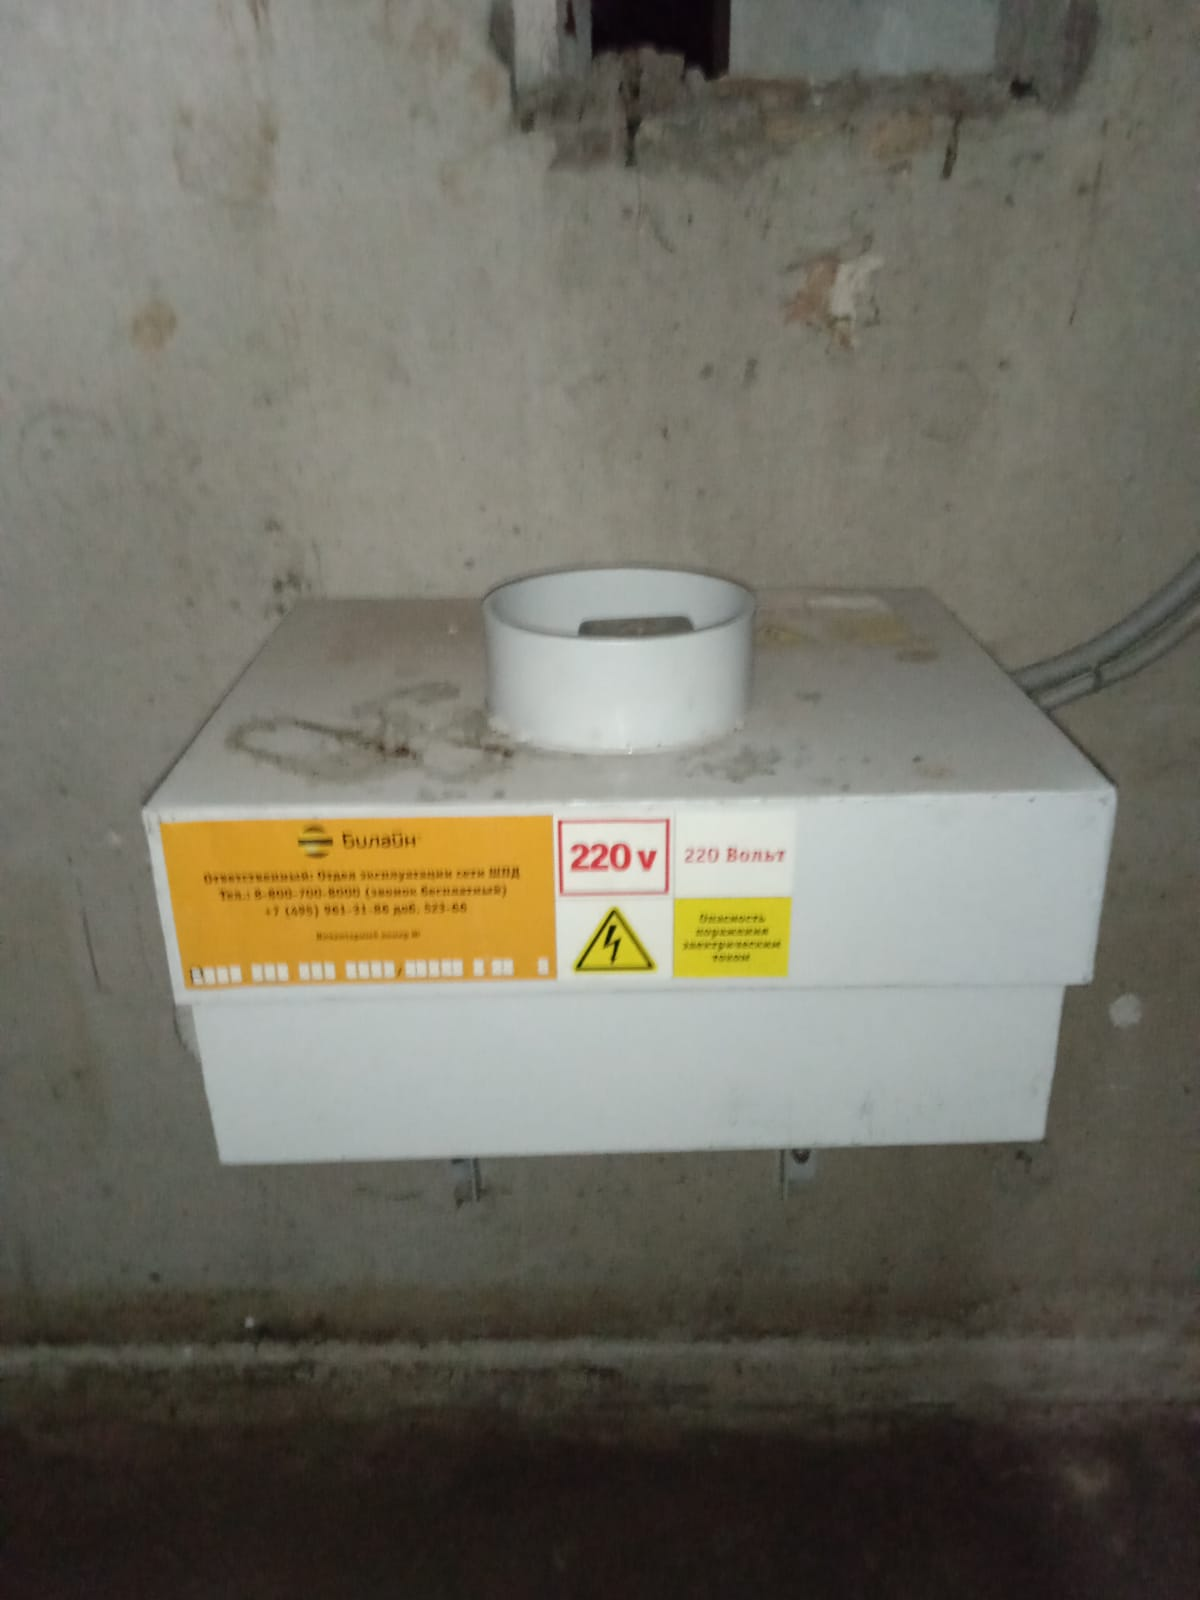shta-ps: (135, 537, 1133, 1174)
